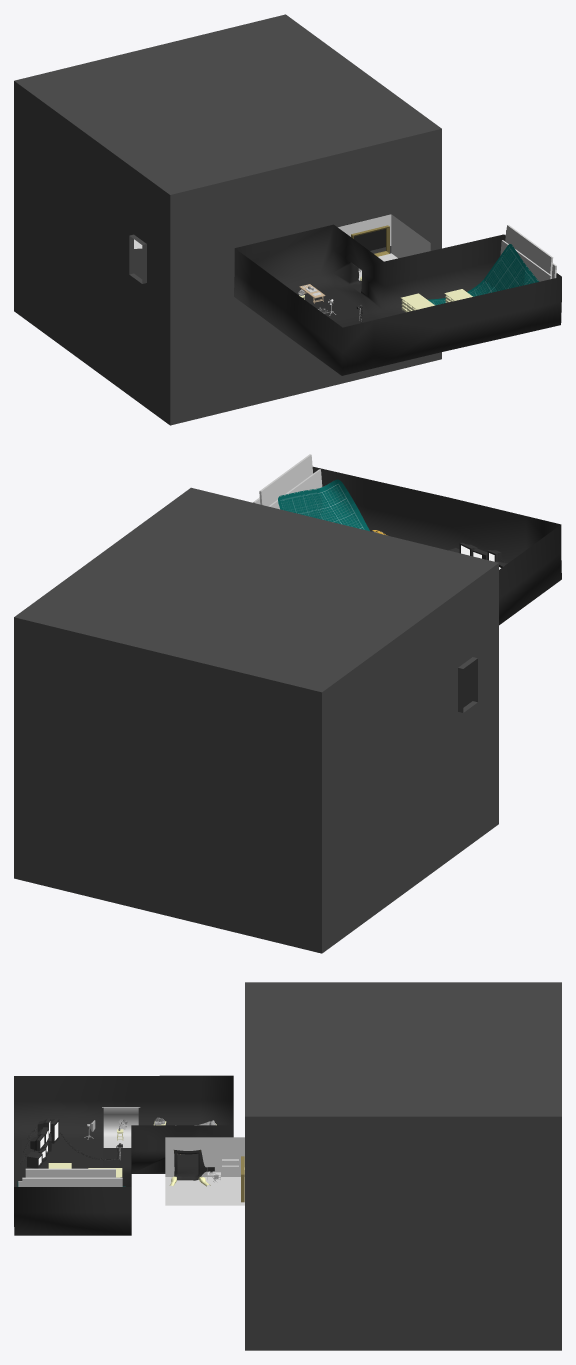
Rendered from stage-test-16.glb.
3 renders of one model, top to bottom at view 1: azimuth 30°, elevation 25°; view 2: azimuth 150°, elevation 25°; view 3: azimuth 270°, elevation 25°, orthographic. The views are drawn at different scales.
Visible parts, largest first — view 1: gallery-ground, monitor-screen-world, cutting-mat, room, foam-board-02; view 2: gallery-ground, monitor-screen-world, cutting-mat, foam-board-02; view 3: gallery-ground, monitor-screen-world, room, photo-screen.001, foam-board-01, foam-board-02.
Part boxes in pixels (<box>): gallery-ground: <box>14,14,441,425</box>; monitor-screen-world: <box>234,224,561,375</box>; cutting-mat: <box>428,244,538,305</box>; room: <box>338,214,430,280</box>; foam-board-02: <box>505,225,553,275</box>; gallery-ground: <box>14,487,498,953</box>; monitor-screen-world: <box>312,466,561,625</box>; cutting-mat: <box>278,479,369,531</box>; foam-board-02: <box>259,454,312,506</box>; gallery-ground: <box>245,982,561,1350</box>; monitor-screen-world: <box>14,1075,233,1235</box>; room: <box>165,1137,244,1205</box>; photo-screen.001: <box>103,1107,138,1147</box>; foam-board-01: <box>22,1177,122,1186</box>; foam-board-02: <box>25,1168,115,1177</box>.
Bounding box in the file's own units: 423 × 329 × 699.
63 materials, 3 textured.
